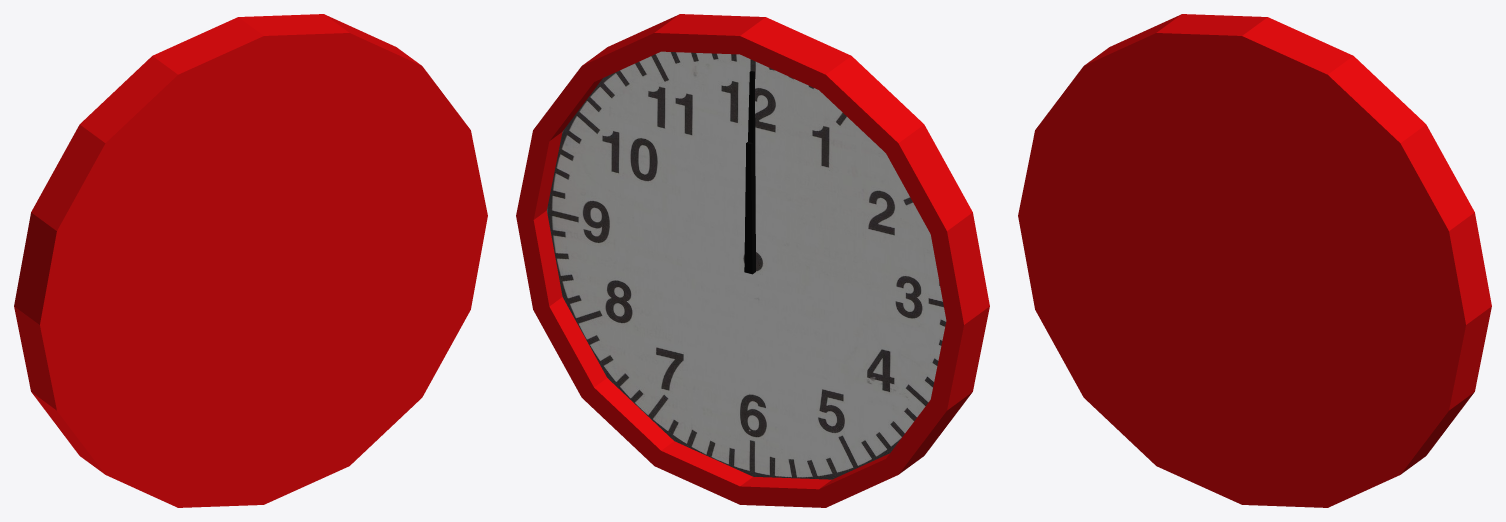
Rendered from Clock.fbx.
3 views of the same model, side by side, from view 1: azimuth 30°, elevation 25°; view 2: azimuth 150°, elevation 25°; view 3: azimuth 330°, elevation 25° (orthographic).
Parts seen in each view (by area): view 1: Clock; view 2: Clock, Hours, Minutes; view 3: Clock.
Boxes of the visible parts, left/top/right/bottom form: Clock: left=14, top=14, right=487, bottom=507; Clock: left=516, top=14, right=989, bottom=507; Hours: left=744, top=142, right=752, bottom=274; Minutes: left=748, top=71, right=755, bottom=273; Clock: left=1018, top=14, right=1491, bottom=507.
Bounding box in the file's own units: 200 × 200 × 20.
4 materials, 1 textured.
